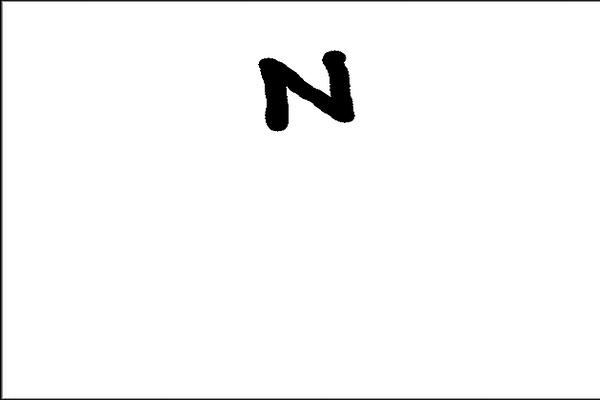N: (249, 46, 365, 136)
